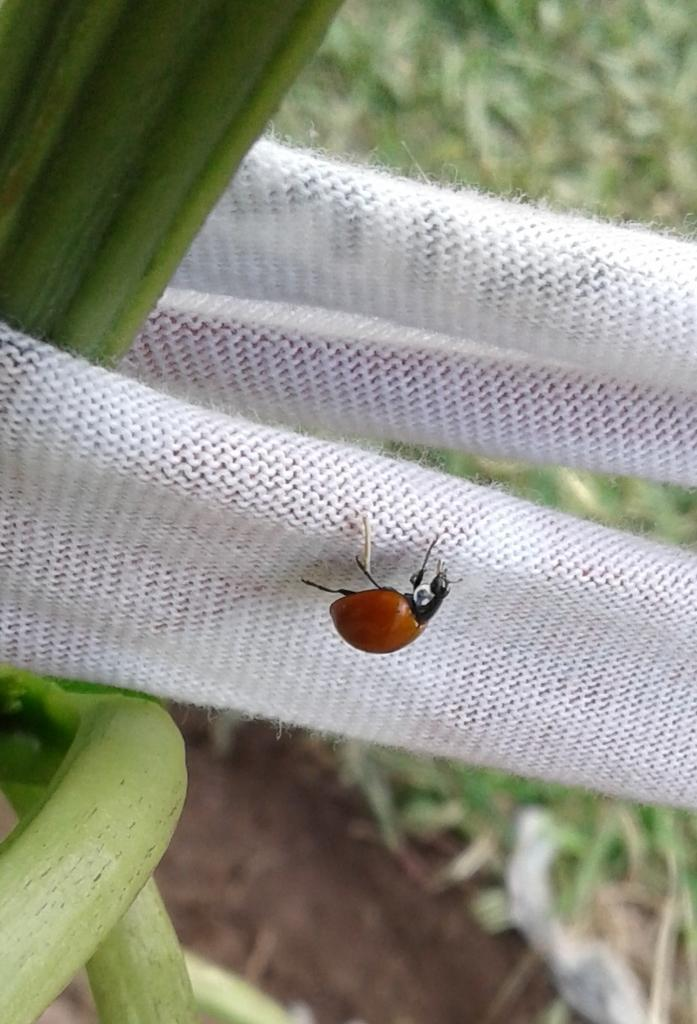ladybug: (297, 527, 469, 657)
